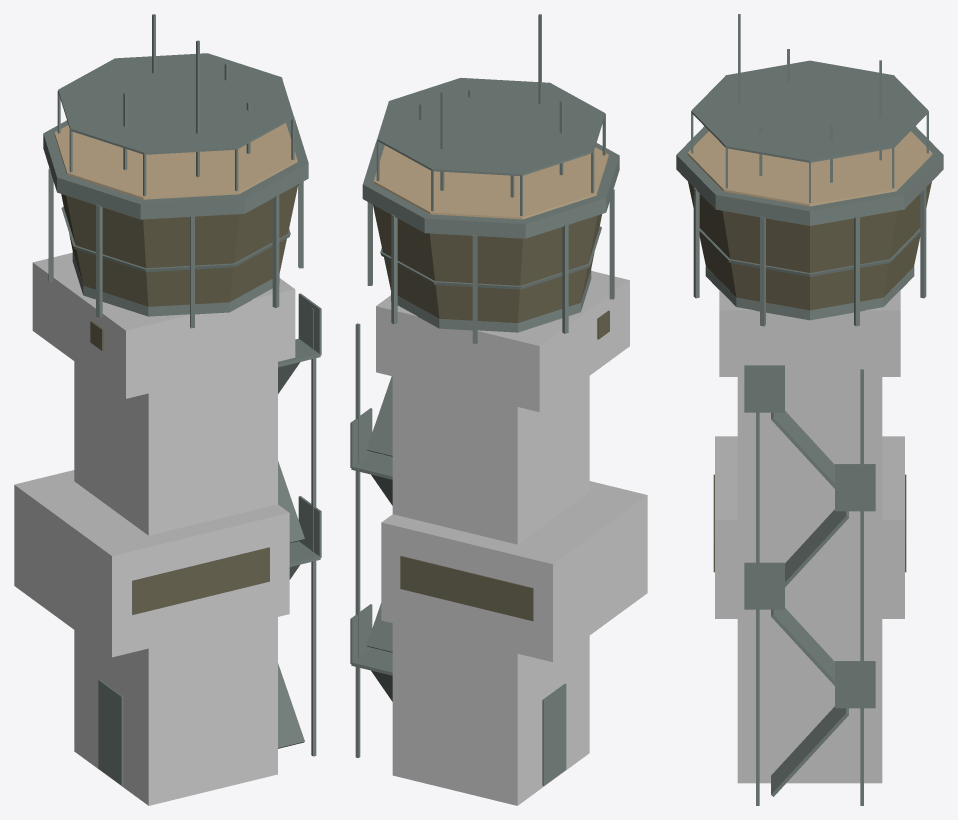
The model's file is SM_TorreControl_v4_LOD0.fbx.
3 views of the same model, side by side, from view 1: azimuth 30°, elevation 25°; view 2: azimuth 150°, elevation 25°; view 3: azimuth 270°, elevation 25° (orthographic). The views are drawn at different scales.
Visible parts, largest first — view 1: SM_torre_control_v4_LOD0; view 2: SM_torre_control_v4_LOD0; view 3: SM_torre_control_v4_LOD0.
Boxes of the visible parts, x1,y1,x2,y2 form: SM_torre_control_v4_LOD0: [14, 14, 321, 805]; SM_torre_control_v4_LOD0: [350, 14, 647, 805]; SM_torre_control_v4_LOD0: [676, 14, 943, 805].
Bounding box in the file's own units: 5.9 × 17.81 × 5.9.
